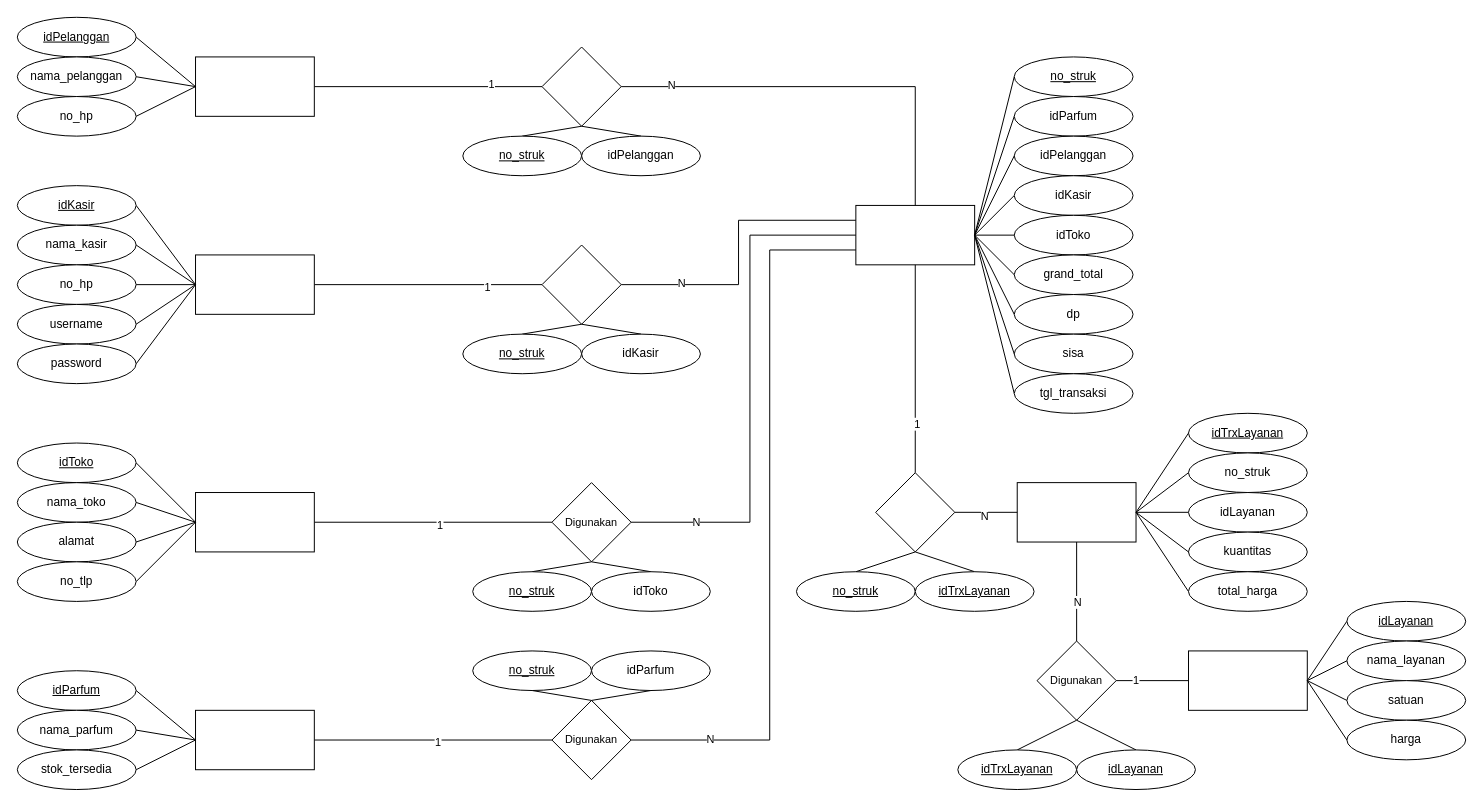
The diagram is 1483 pixels wide and 807 high, and some of its shapes have lost their labels. The centre of each missing label's shape, as x and y in pixels:
Memesan: the point at 581,86
Memiliki: the point at 915,512
Menginput: the point at 581,284
Ms_Kasir: the point at 254,284
Ms_Layanan: the point at 1247,680
Ms_Parfum: the point at 254,739
Ms_Pelanggan: the point at 254,86
Ms_Toko: the point at 254,522
Trx_Laundry: the point at 915,234
Trx_Layanan: the point at 1076,512
